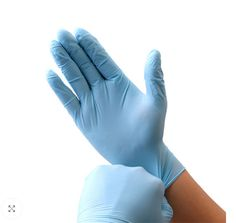gloves: (44, 27, 186, 185), (77, 164, 174, 223)
